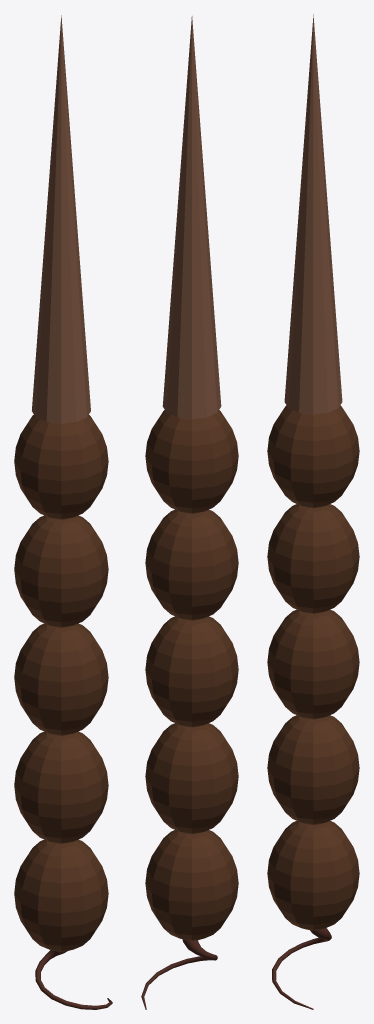
The model's file is Wand 229.glb.
The picture shows the model from 3 angles, left to right: view 1: azimuth 30°, elevation 25°; view 2: azimuth 210°, elevation 25°; view 3: azimuth 270°, elevation 25°; orthographic projection. The views are drawn at different scales.
Visible parts, largest first — view 1: GeneratedWand; view 2: GeneratedWand; view 3: GeneratedWand.
Boxes of the visible parts, x1,y1,x2,y2 form: GeneratedWand: (14, 15, 112, 1009); GeneratedWand: (141, 16, 238, 1009); GeneratedWand: (267, 14, 359, 1009).
Bounding box in the file's own units: 0.0481 × 0.523 × 0.0449.
